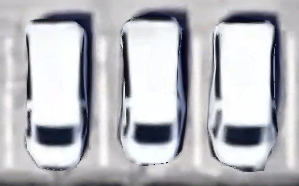Occupied: (7, 34, 104, 169), (103, 34, 199, 169), (199, 34, 291, 169)
